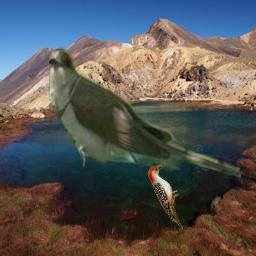Cuckoo: (49, 46, 241, 179)
Woodpecker: (148, 162, 183, 230)
